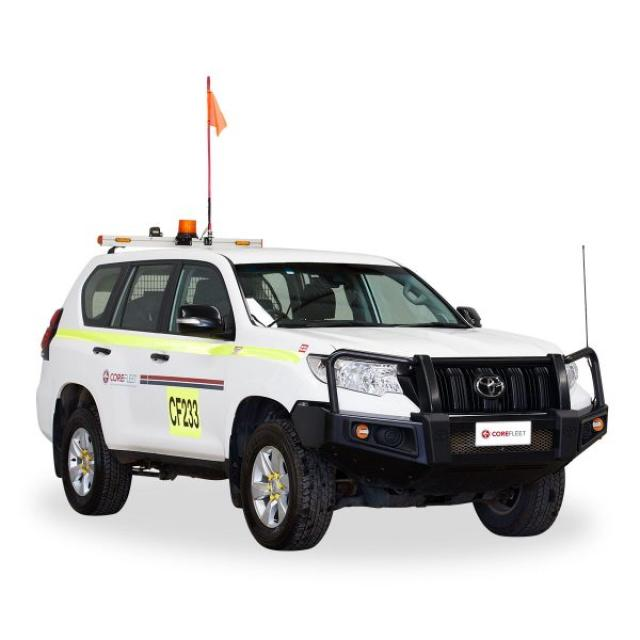light_vehicle: (36, 224, 614, 560)
